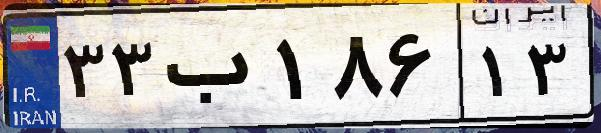1: (270, 28, 330, 110), (475, 38, 525, 113)
3: (57, 26, 110, 100), (525, 38, 570, 115), (110, 28, 158, 98)
6: (385, 28, 445, 110)
8: (330, 28, 385, 110)
ب: (158, 20, 270, 120)
